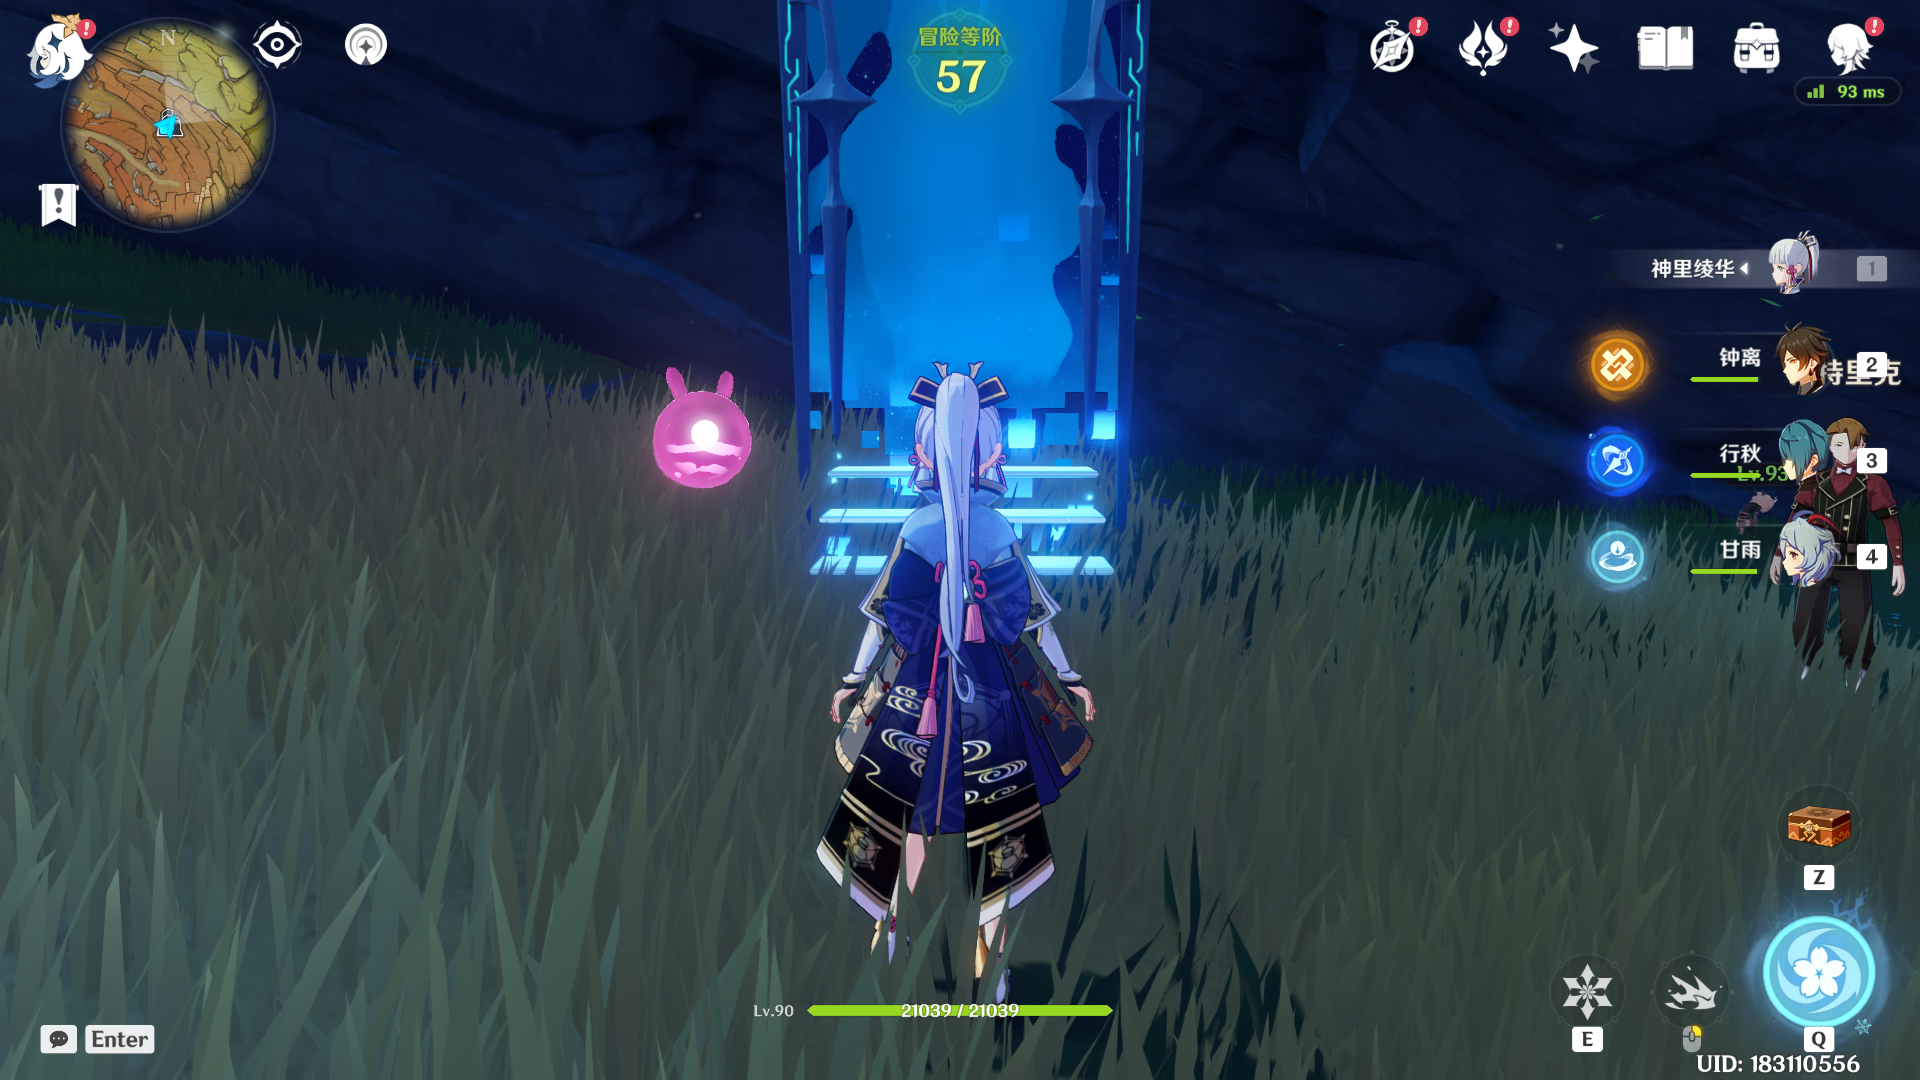character: (775, 324, 1139, 1034)
